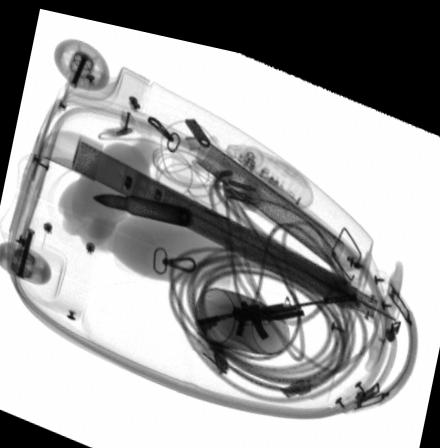Bullet: (91, 189, 193, 219)
Gun: (195, 277, 357, 329)
